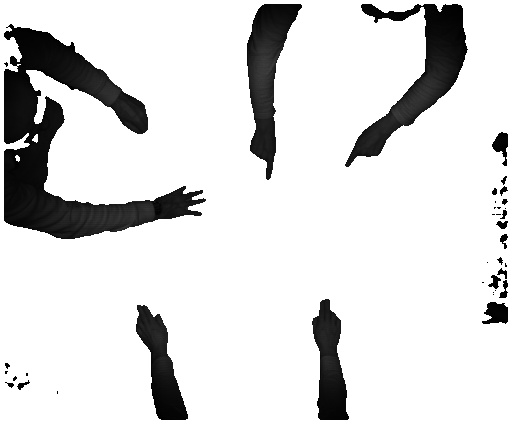fist: (115, 96, 151, 135)
hand: (344, 123, 391, 167), (136, 304, 175, 355), (157, 186, 207, 223), (312, 296, 343, 352), (248, 129, 279, 183)
